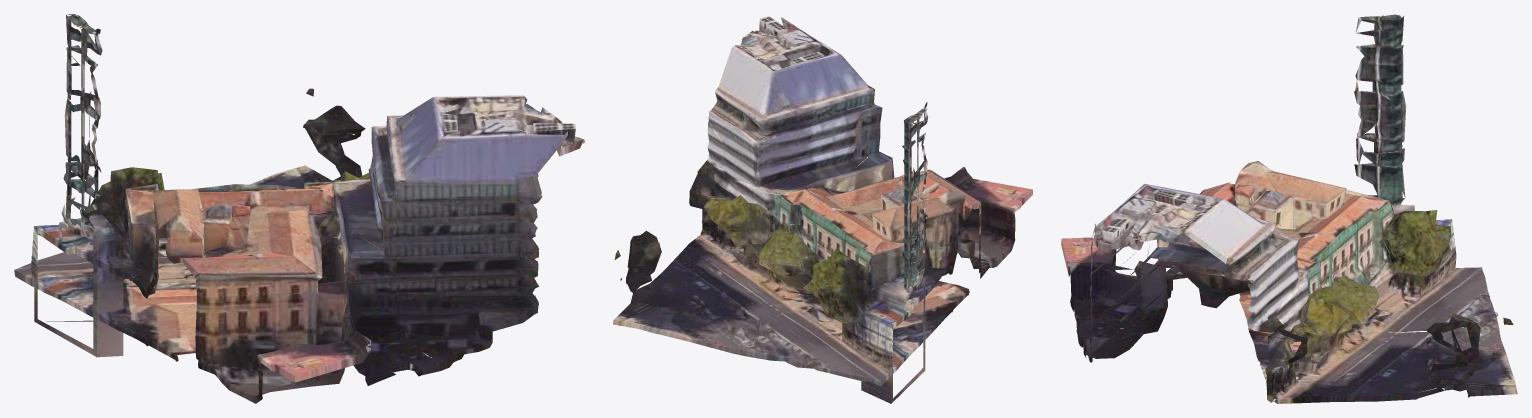
3 views of the same model, side by side, from view 1: azimuth 30°, elevation 25°; view 2: azimuth 150°, elevation 25°; view 3: azimuth 270°, elevation 25° (orthographic). The views are drawn at different scales.
Visible parts, largest first — view 1: Mesh_0; view 2: Mesh_0; view 3: Mesh_0.
Part boxes in pixels (left/top/right/bottom): Mesh_0: left=14, top=14, right=584, bottom=403; Mesh_0: left=613, top=16, right=1032, bottom=403; Mesh_0: left=1061, top=14, right=1517, bottom=403.
Size of the model in its own units: 66.56 by 59.31 by 82.41.
1 material, 1 textured.
